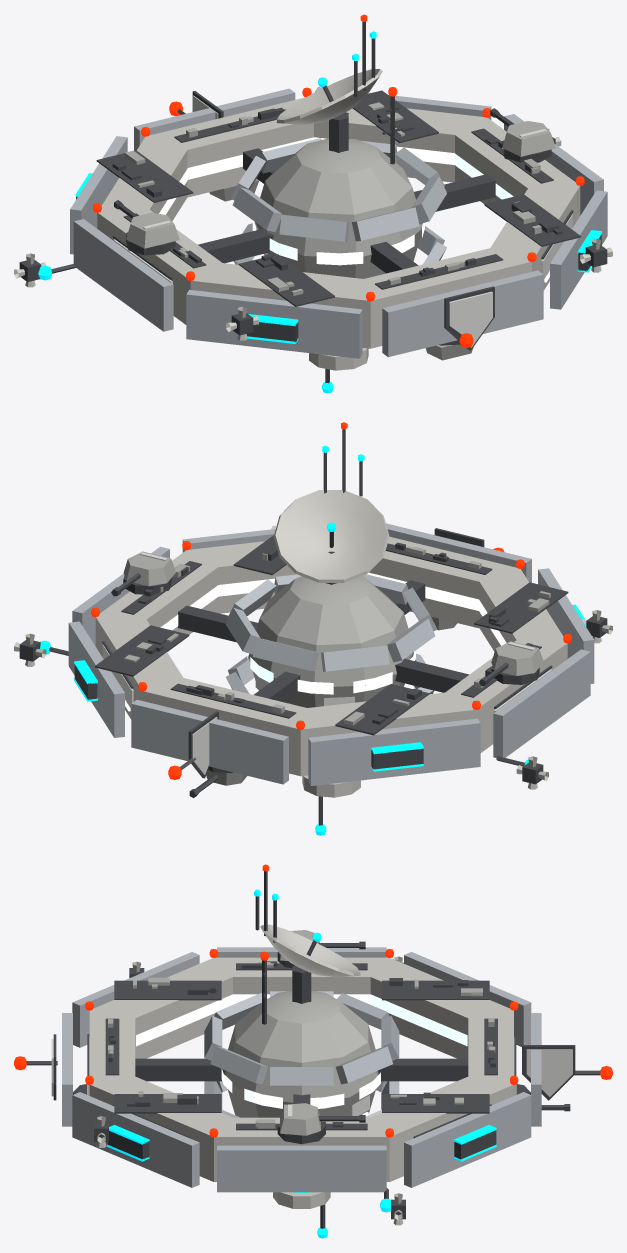
The model's file is sector_hq.glb.
The picture shows the model from 3 angles, top to bottom: view 1: azimuth 30°, elevation 25°; view 2: azimuth 150°, elevation 25°; view 3: azimuth 270°, elevation 25°; orthographic projection. The views are drawn at different scales.
Parts seen in each view (by area): view 1: sector_hq, Turret_1, Turret_0, Turret_3; view 2: sector_hq, Turret_1, Turret_0, Turret_2; view 3: sector_hq, Turret_0, Turret_1.
Part boxes in pixels (box(x1,y1,x2,y2)): sector_hq: box(14, 14, 612, 393); Turret_1: box(114, 200, 179, 255); Turret_0: box(490, 108, 555, 162); Turret_3: box(425, 340, 473, 360); sector_hq: box(14, 422, 612, 835); Turret_1: box(479, 641, 543, 685); Turret_0: box(111, 551, 175, 596); Turret_2: box(189, 766, 246, 797); sector_hq: box(14, 864, 612, 1238); Turret_0: box(277, 1103, 365, 1144); Turret_1: box(277, 930, 365, 968).
Size of the model in its own units: 1.91 by 1.35 by 1.94.
